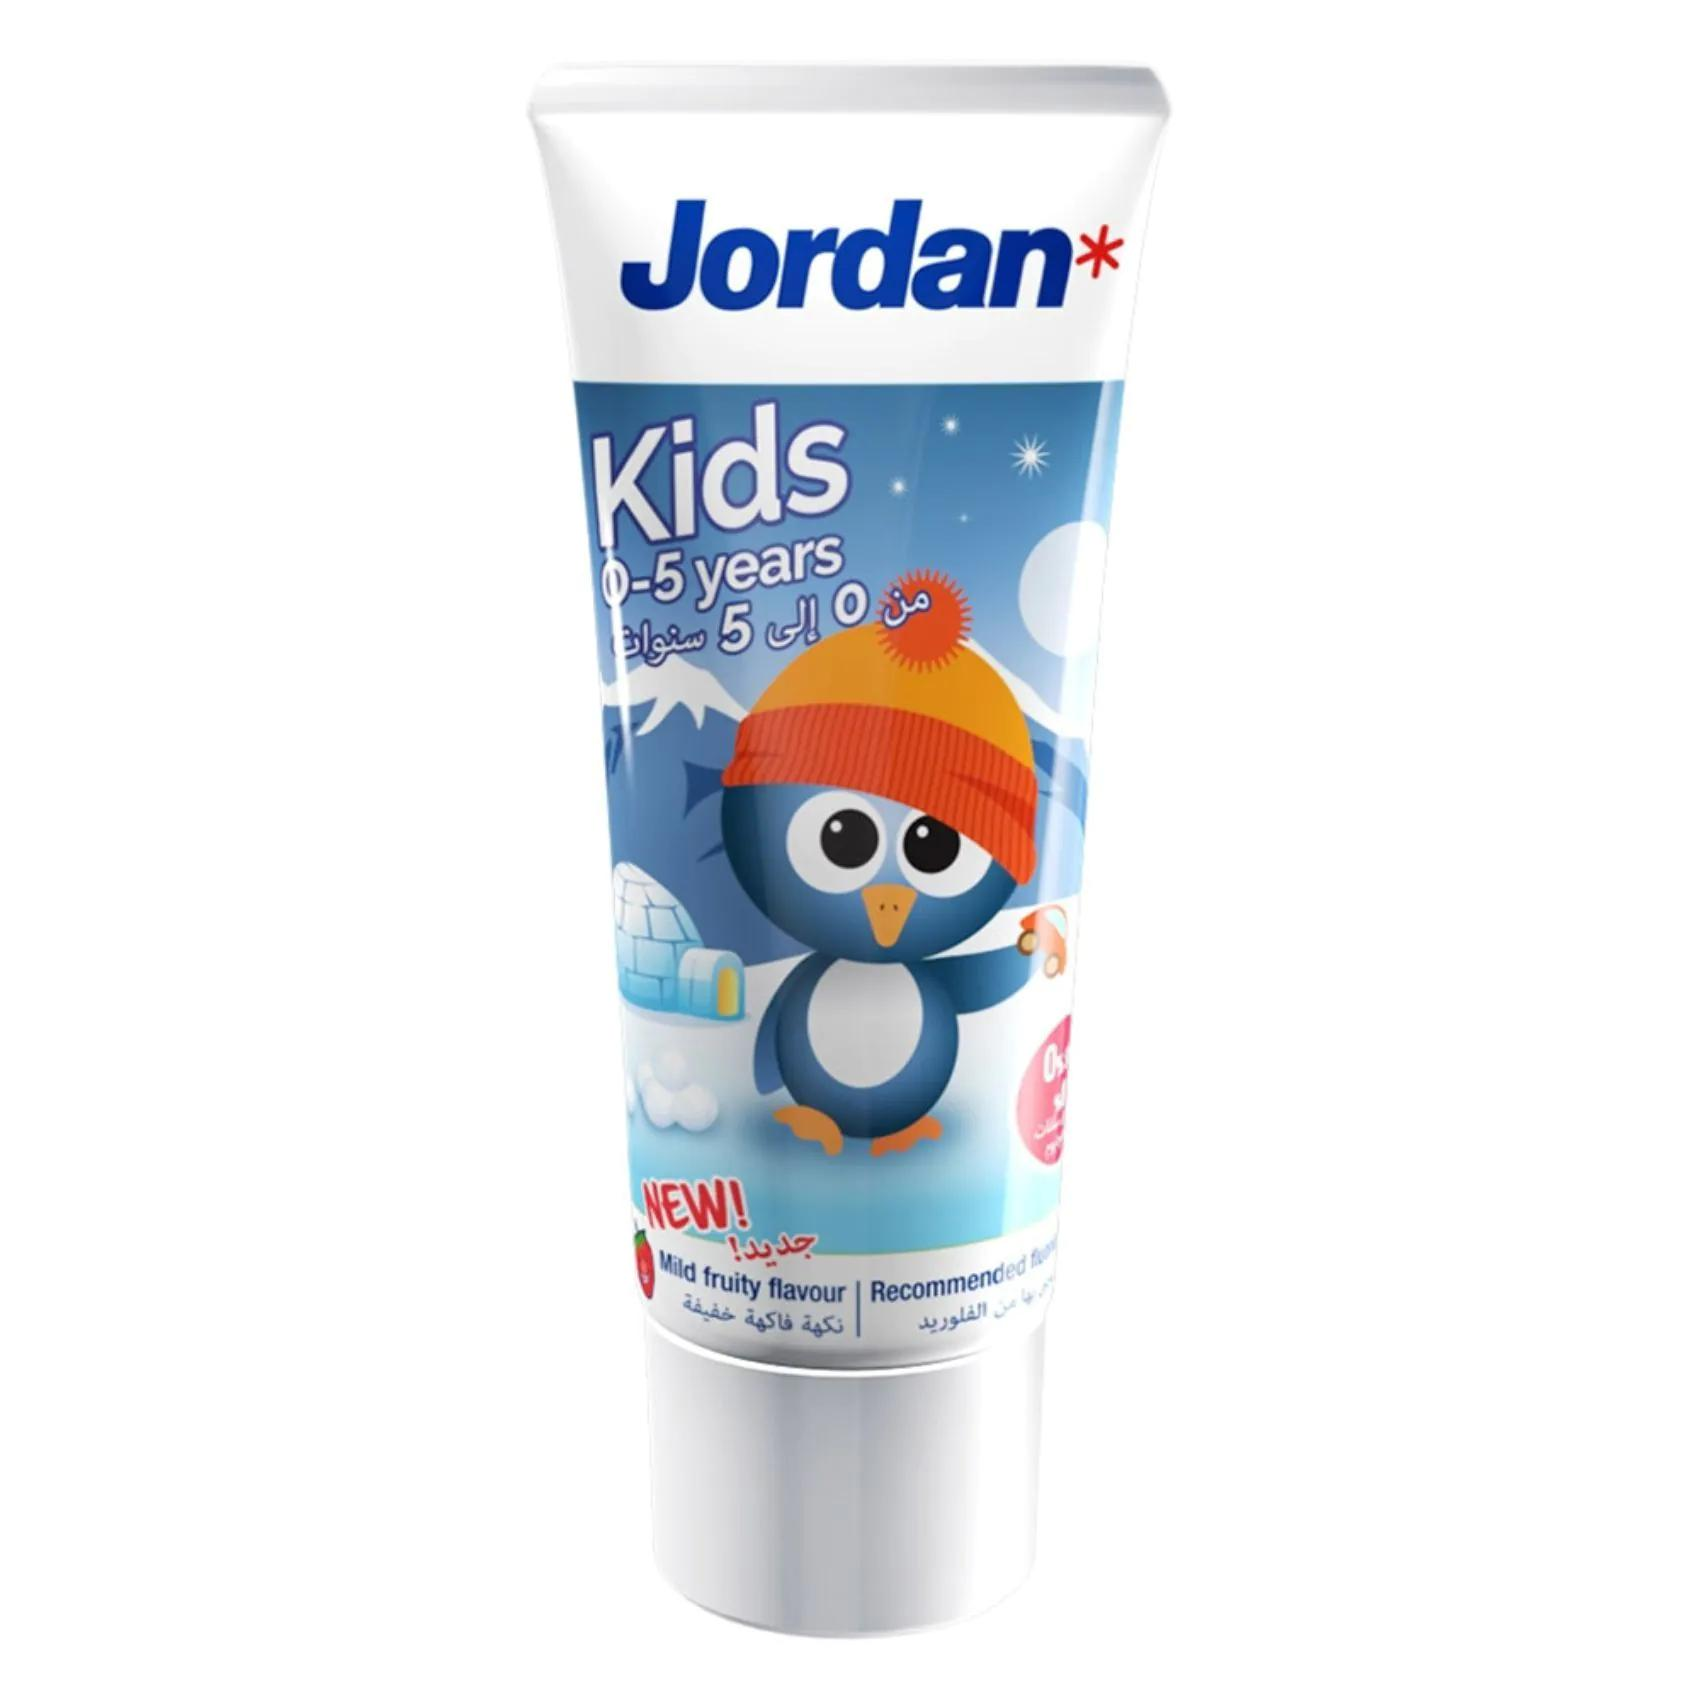toothpaste: (512, 51, 1182, 1652)
